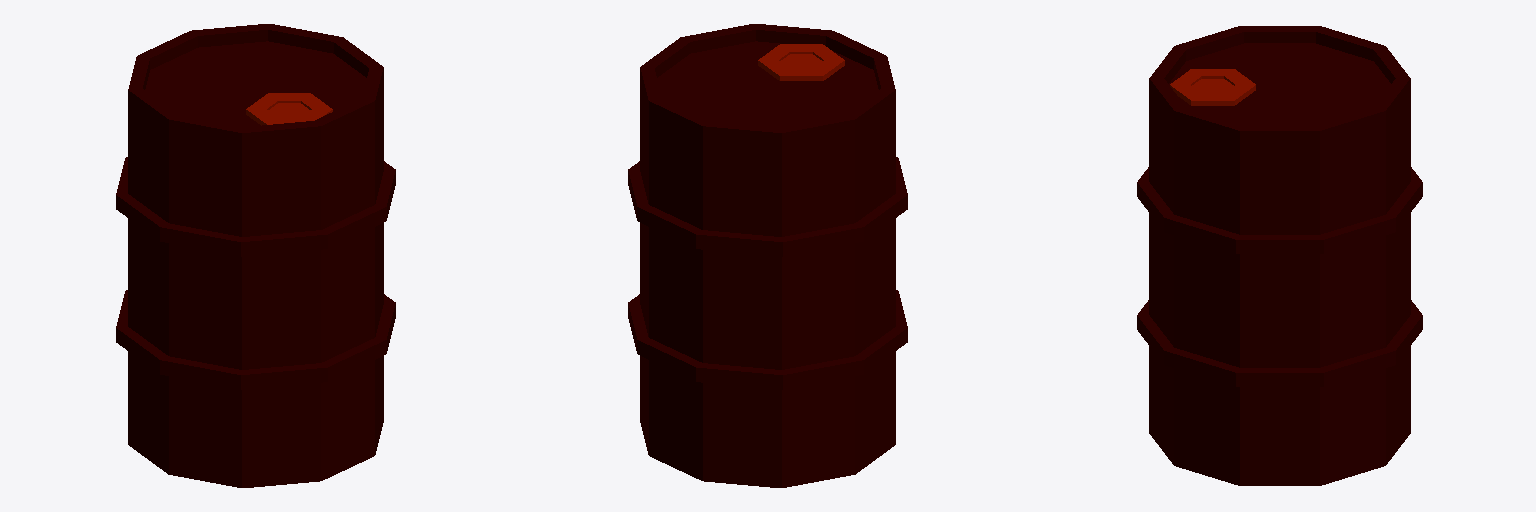
The model's file is OilDrum_03.obj.
The picture shows the model from 3 angles: view 1: azimuth 30°, elevation 25°; view 2: azimuth 150°, elevation 25°; view 3: azimuth 270°, elevation 25°; orthographic projection.
Visible parts, largest first — view 1: OilDrum_03_Cylinder.006; view 2: OilDrum_03_Cylinder.006; view 3: OilDrum_03_Cylinder.006.
Boxes of the visible parts, <box> form: OilDrum_03_Cylinder.006: <box>116,24,395,487</box>; OilDrum_03_Cylinder.006: <box>628,24,907,487</box>; OilDrum_03_Cylinder.006: <box>1137,26,1422,485</box>.
Size of the model in its own units: 3.26 by 4.7 by 3.43.